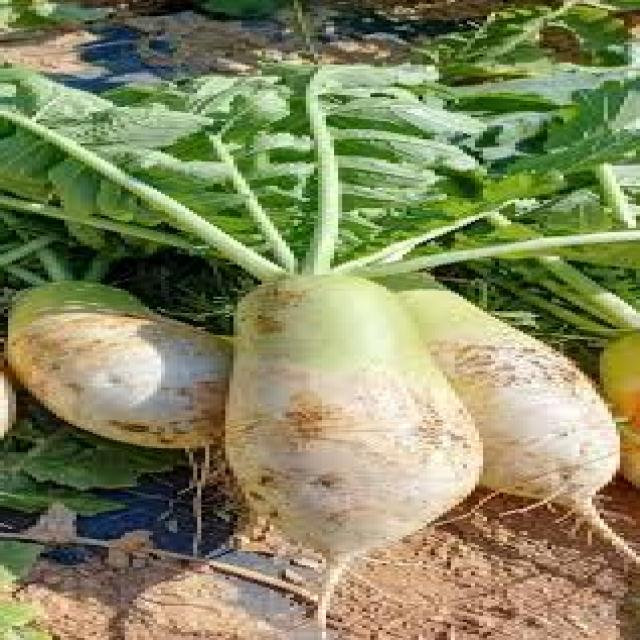raddish: (225, 275, 483, 560)
